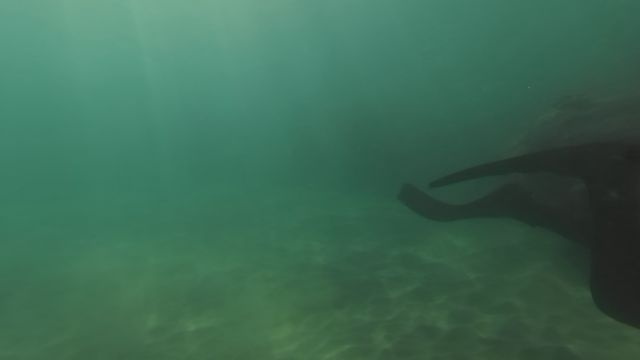Diver: (394, 130, 638, 332)
